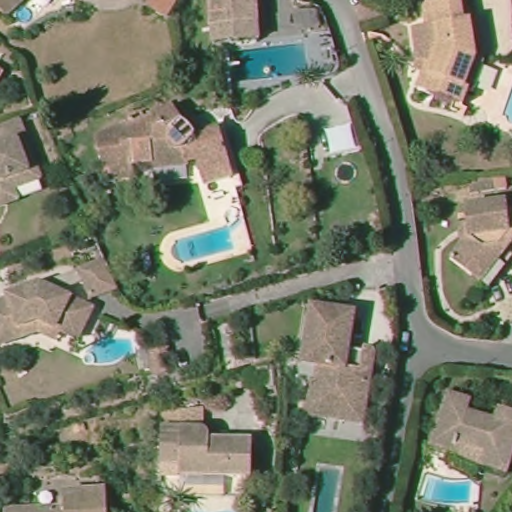pool: (223, 44, 315, 86), (167, 224, 238, 269), (416, 466, 484, 508), (79, 329, 140, 367), (304, 458, 347, 508), (502, 76, 512, 125), (13, 5, 32, 24)
